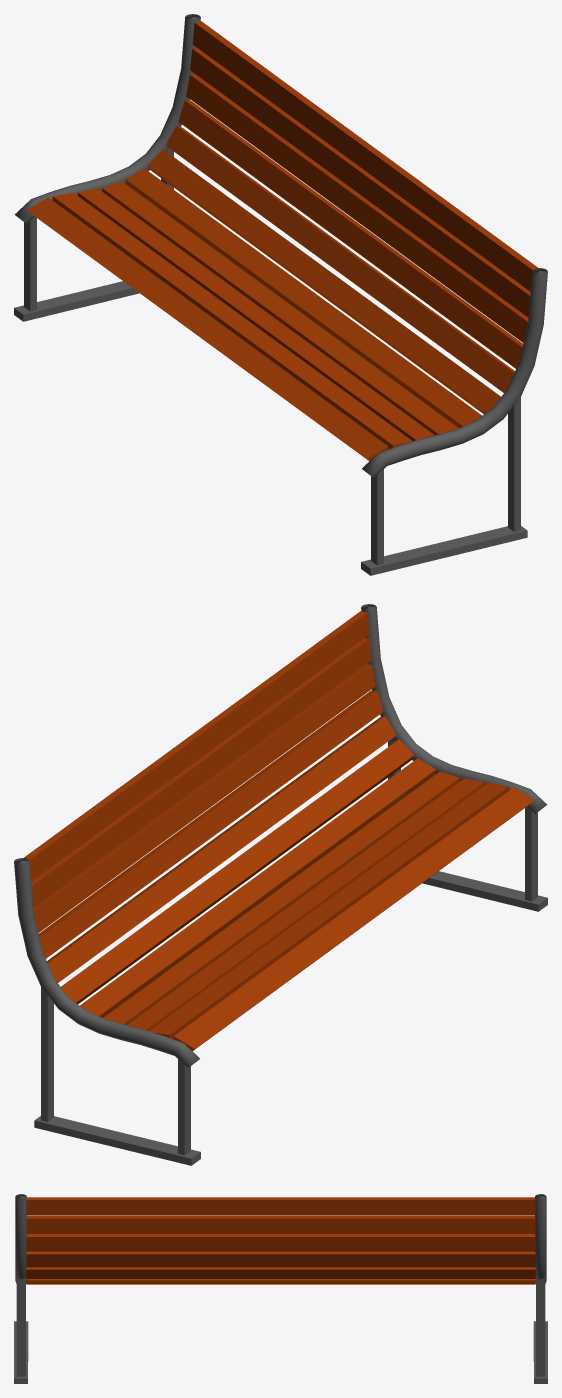
File: Bench.fbx
3 views of the same model, one above another, from view 1: azimuth 30°, elevation 25°; view 2: azimuth 150°, elevation 25°; view 3: azimuth 270°, elevation 25° (orthographic). The views are drawn at different scales.
Parts seen in each view (by area): view 1: Cube, Cube.002; view 2: Cube, Cube.002; view 3: Cube, Cube.002.
Part boxes in pixels (left/top/right/bottom): Cube: left=27, top=21, right=538, bottom=461; Cube.002: left=14, top=14, right=547, bottom=575; Cube: left=23, top=611, right=534, bottom=1051; Cube.002: left=14, top=604, right=547, bottom=1165; Cube: left=26, top=1197, right=535, bottom=1284; Cube.002: left=14, top=1194, right=547, bottom=1383.
Size of the model in its own units: 538 by 723 by 1806.
